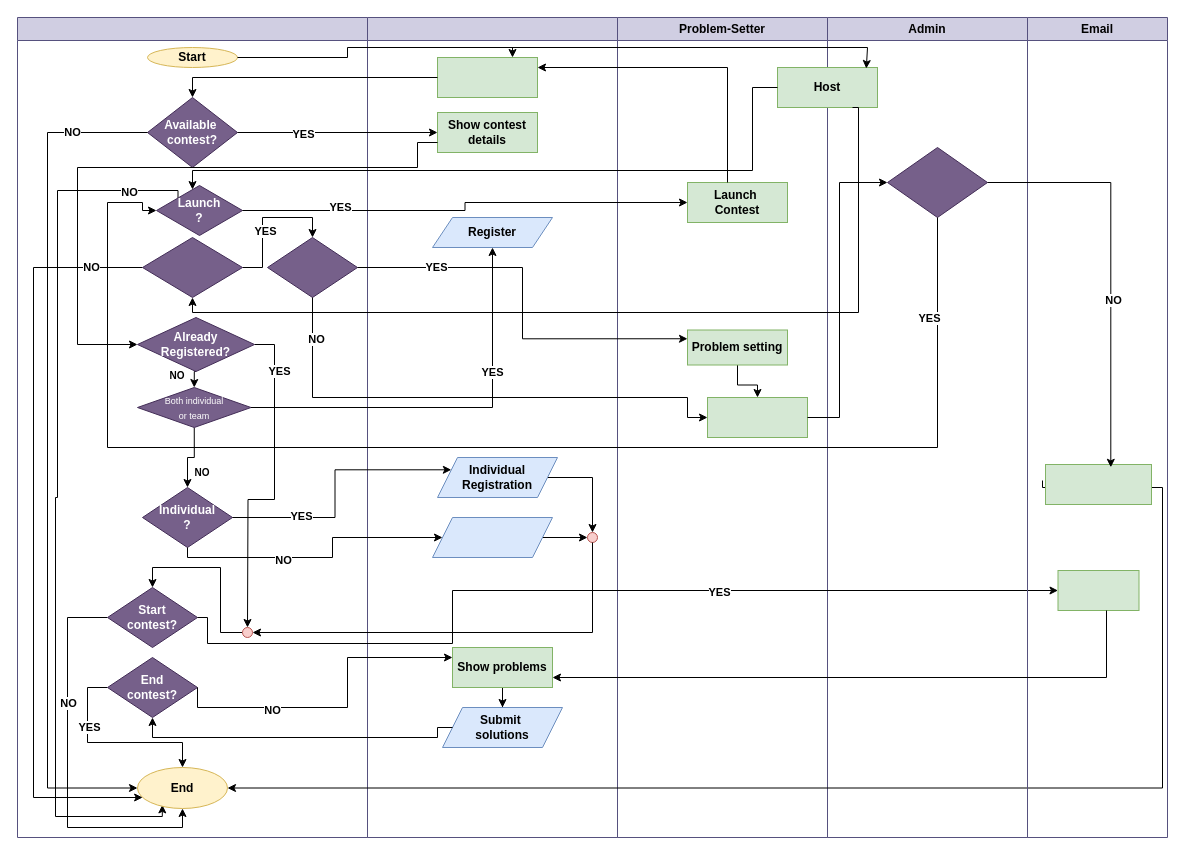
This 1188x855 diagram has some shape labels left out. Each missing label, with the box of its shape:
Contest details submission: (706, 396, 808, 438)
Contest notification: (1057, 570, 1139, 610)
Contestant: (366, 16, 618, 838)
Create new Contest ?: (142, 236, 242, 298)
Is Approve?: (886, 146, 988, 218)
Participate: (436, 56, 538, 98)
Rejection Notification: (1044, 464, 1152, 504)
Set Custom Problem?: (266, 236, 358, 298)
System: (16, 16, 368, 838)
Team Registration: (432, 516, 552, 558)
